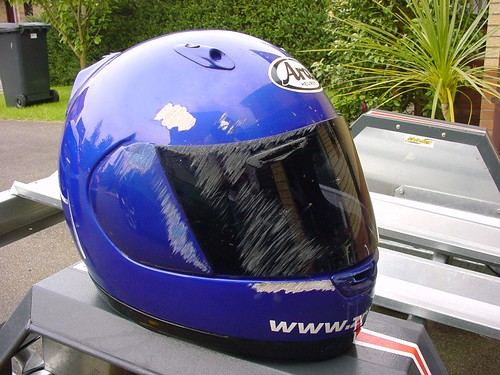helmet: (45, 25, 398, 358)
